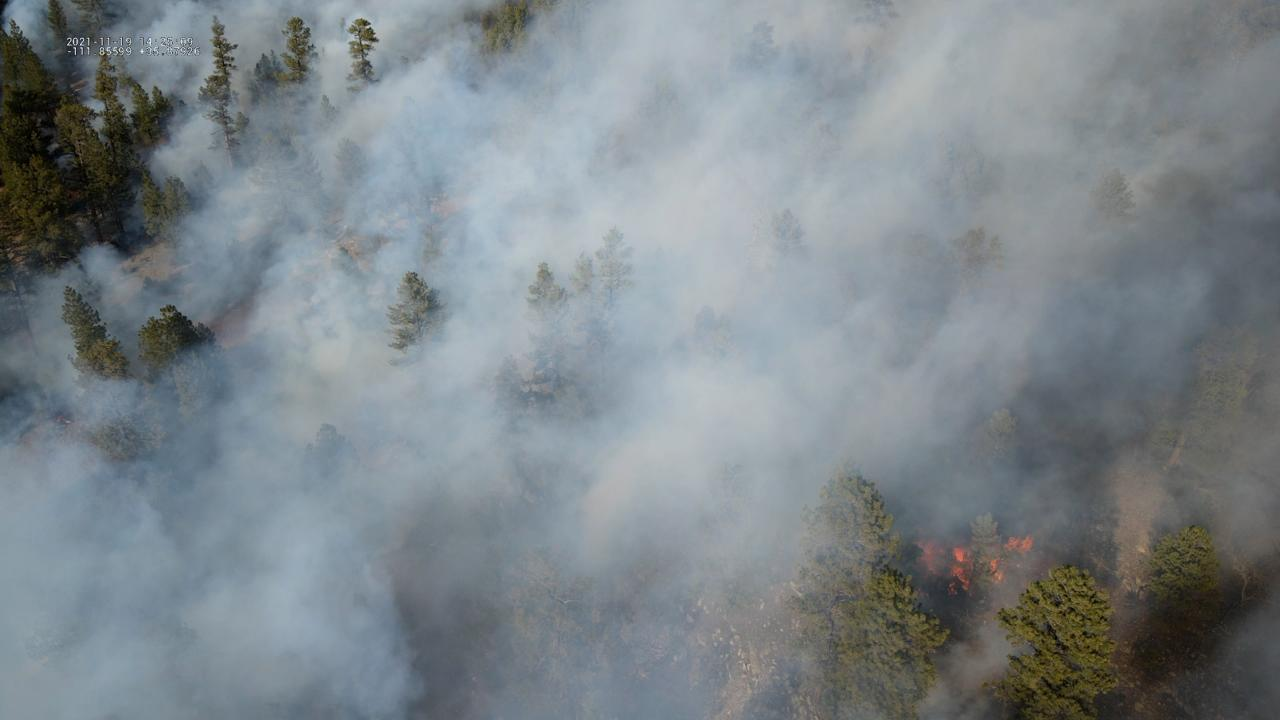fire: (905, 537, 976, 598), (986, 532, 1035, 584)
smoke: (0, 0, 1280, 720)
